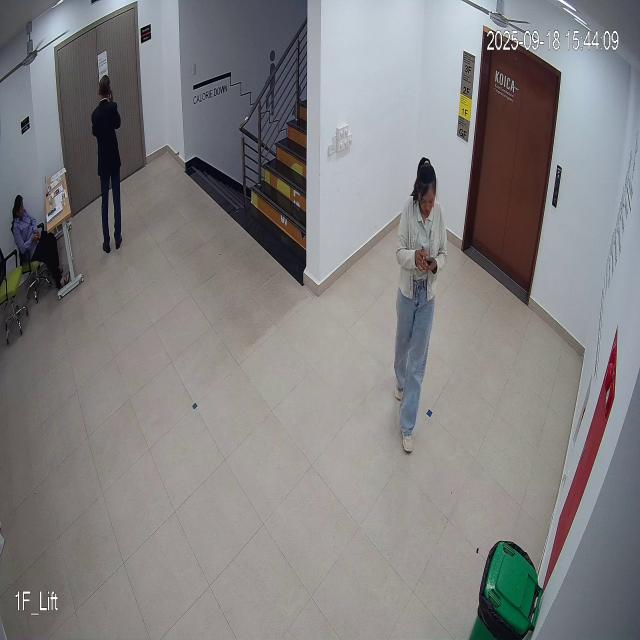face: (412, 160, 441, 220)
